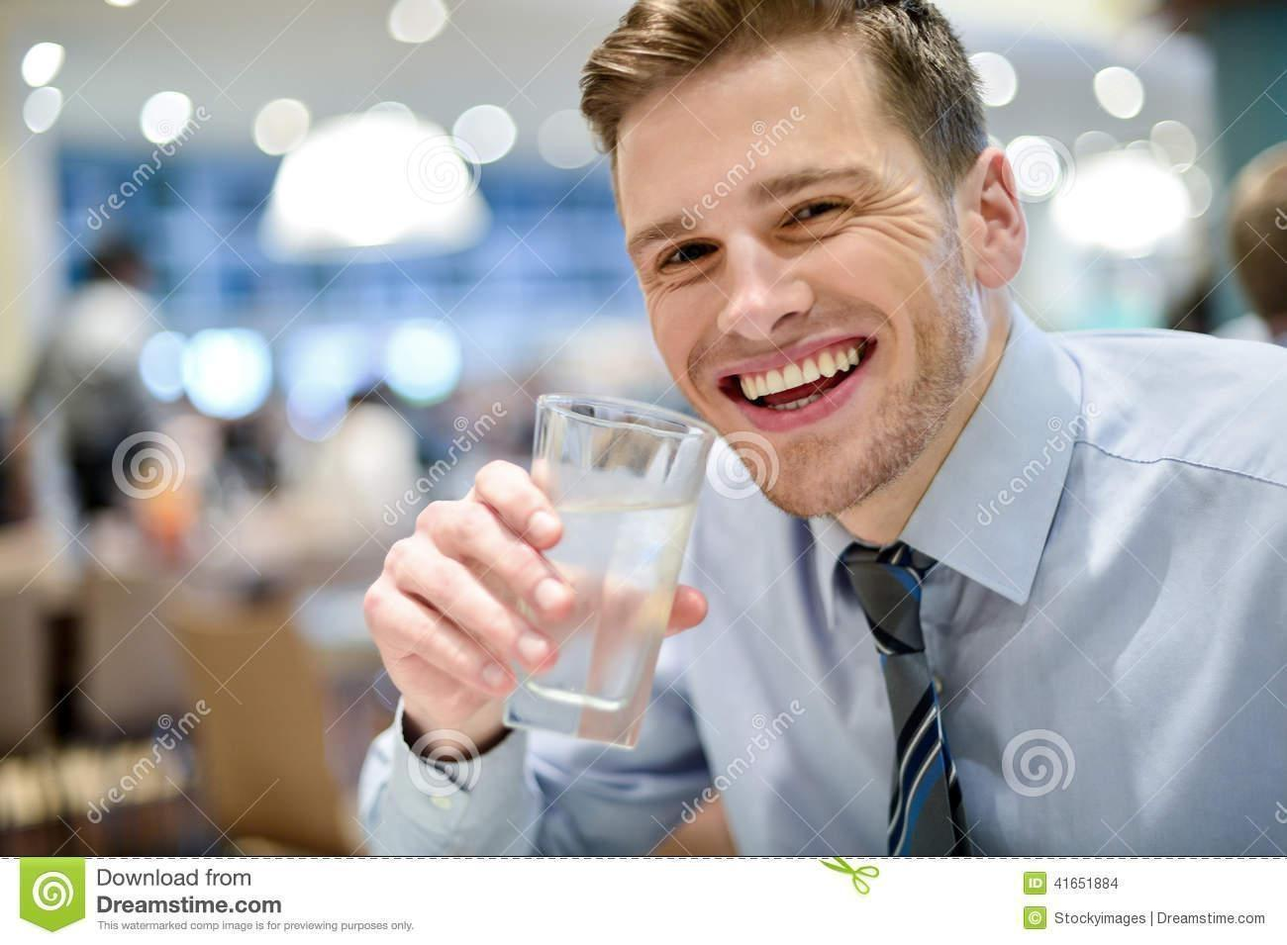glass-normal: (506, 392, 718, 733)
